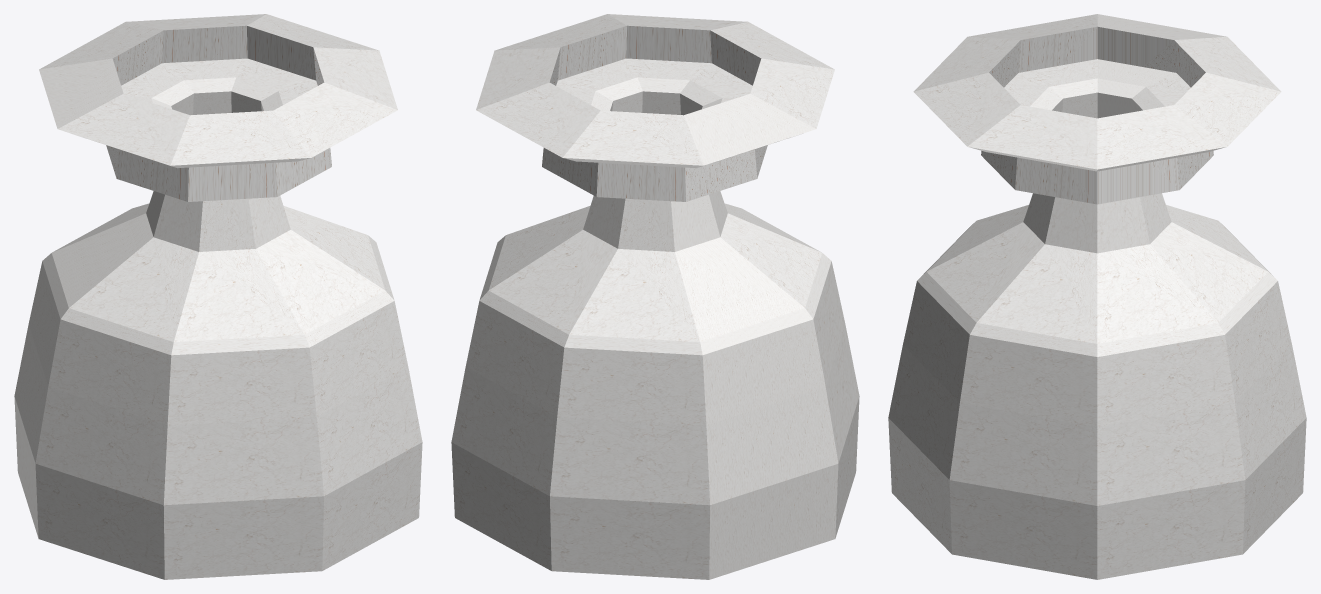
The model's file is Pot.fbx.
3 renders of one model, left to right at view 1: azimuth 30°, elevation 25°; view 2: azimuth 150°, elevation 25°; view 3: azimuth 270°, elevation 25°, orthographic.
Visible parts, largest first — view 1: polySurface1; view 2: polySurface1; view 3: polySurface1.
Boxes of the visible parts, x1,y1,x2,y2 form: polySurface1: (14,14,422,579); polySurface1: (451,14,859,579); polySurface1: (888,14,1306,579).
Size of the model in its own units: 16.94 by 19.98 by 16.94.
Materials: 2 (1 with a texture image).
